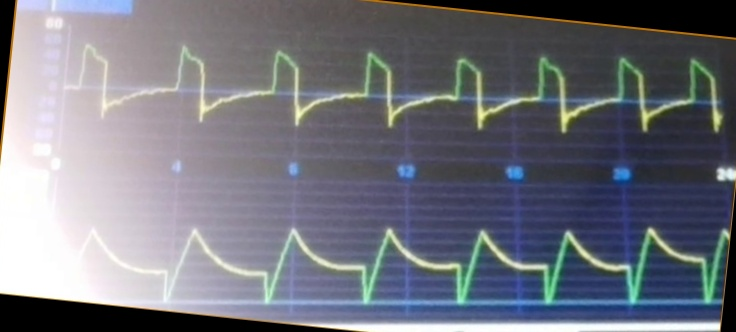Flow: (73, 42, 723, 153)
Leakage Volume: (76, 220, 720, 310)
